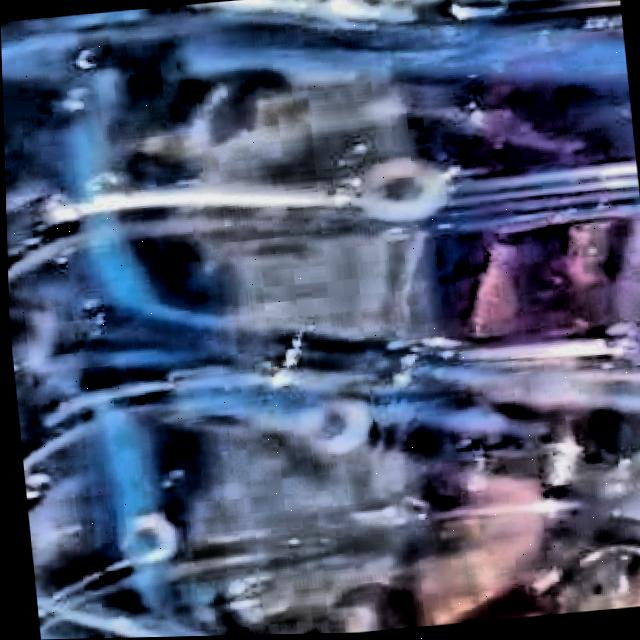plastic: (1, 0, 640, 640)
